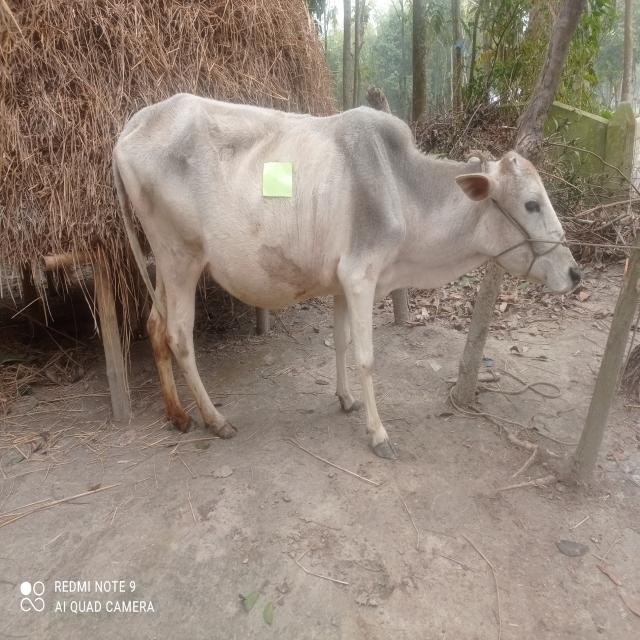badan_sapi: (133, 114, 379, 293)
sapi: (114, 93, 584, 465)
